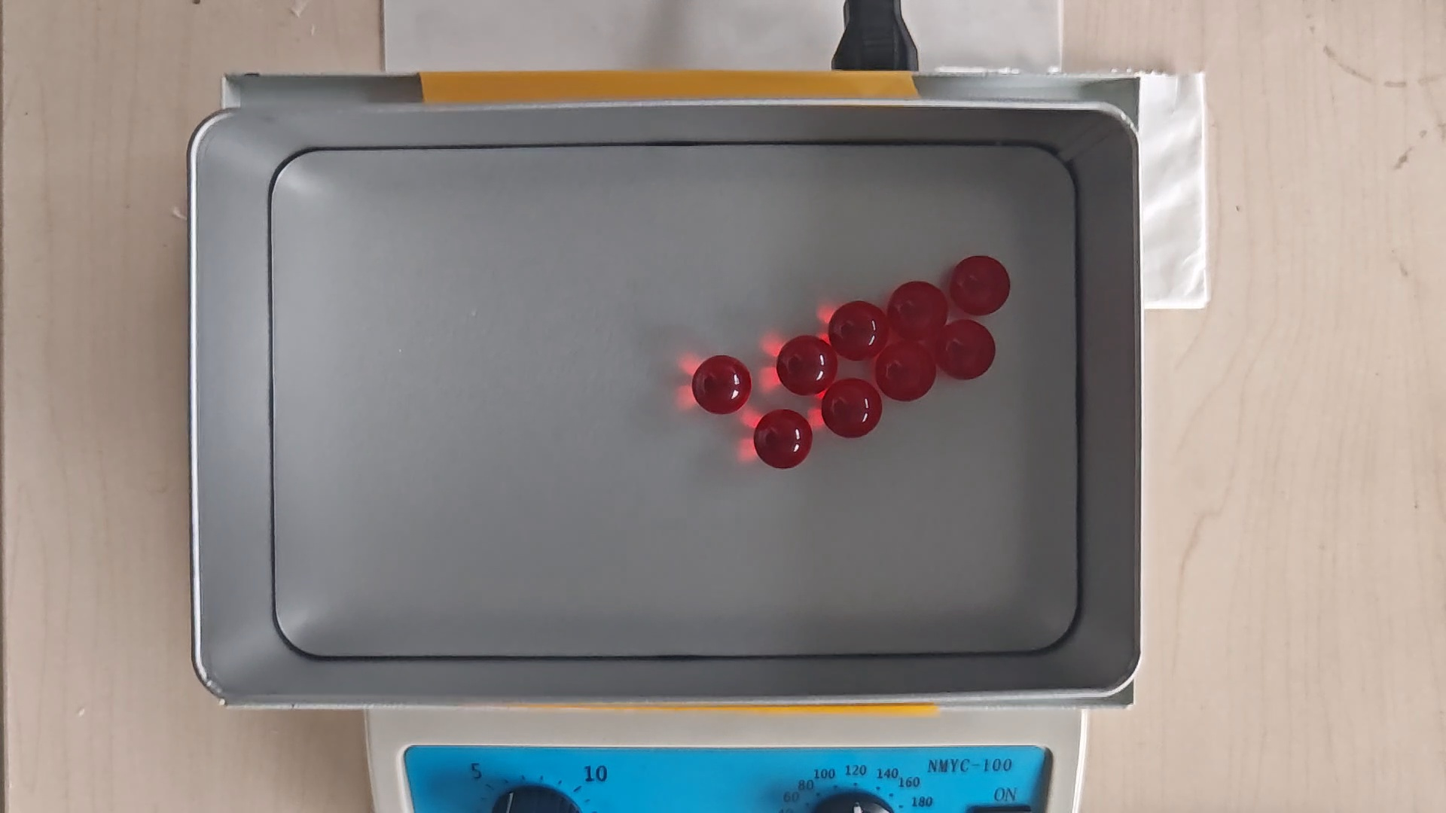ball: (936, 319, 997, 381), (875, 340, 937, 401), (692, 354, 752, 416), (951, 254, 1010, 316), (822, 379, 882, 439), (754, 408, 812, 470), (777, 335, 835, 396), (888, 281, 948, 338), (830, 300, 886, 360)
container: (272, 143, 1078, 657)
